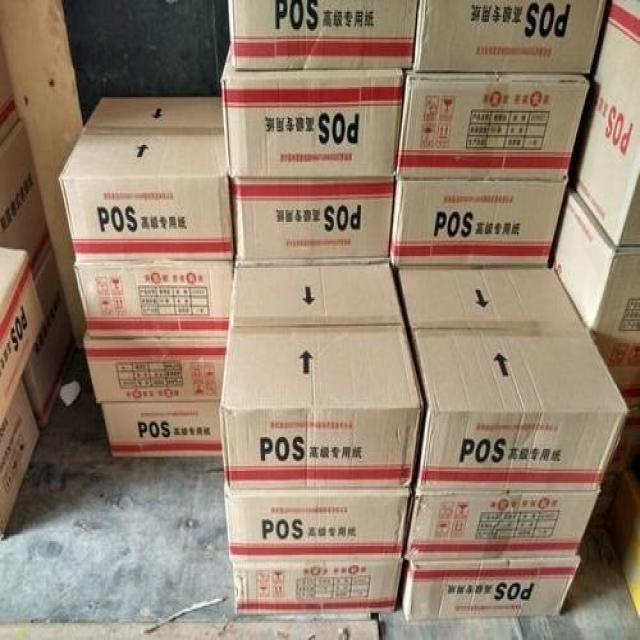box: (398, 268, 628, 491), (220, 263, 424, 491), (58, 97, 234, 261), (220, 45, 404, 179), (396, 69, 589, 181), (548, 182, 639, 407), (567, 0, 639, 245), (389, 177, 567, 267), (413, 0, 607, 74), (224, 487, 412, 561), (232, 177, 395, 261), (406, 491, 600, 560), (228, 0, 418, 70), (401, 553, 582, 623), (73, 260, 235, 338), (83, 330, 227, 403), (22, 247, 76, 429), (233, 561, 403, 614), (0, 118, 52, 279), (0, 248, 45, 428), (100, 401, 222, 457), (0, 379, 40, 540)
